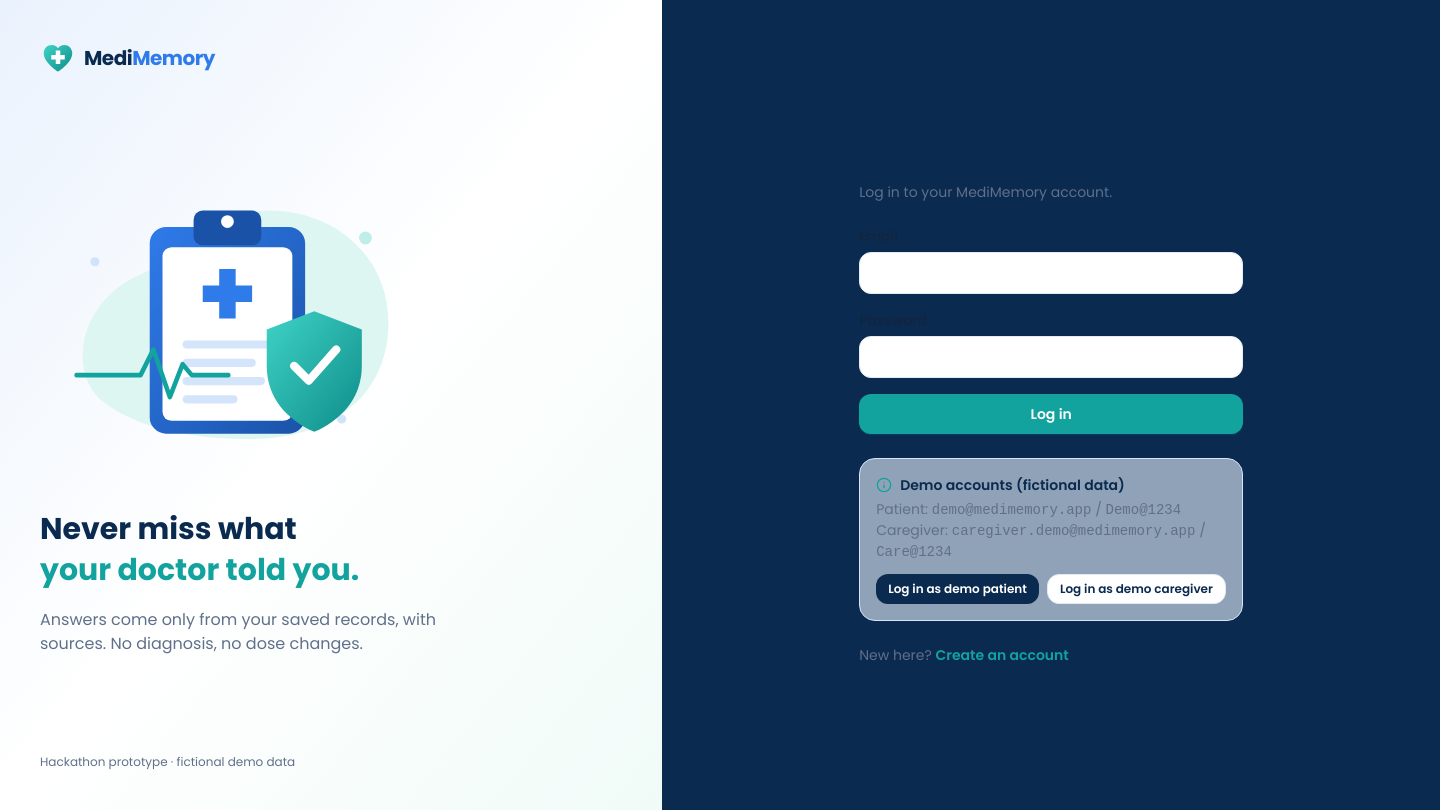
it: authentication flow › shows the server error on bad credentials
Step 1. Type "x@y.com" into the field labelled "Email" → (1051, 272), box [859,252,1243,294]
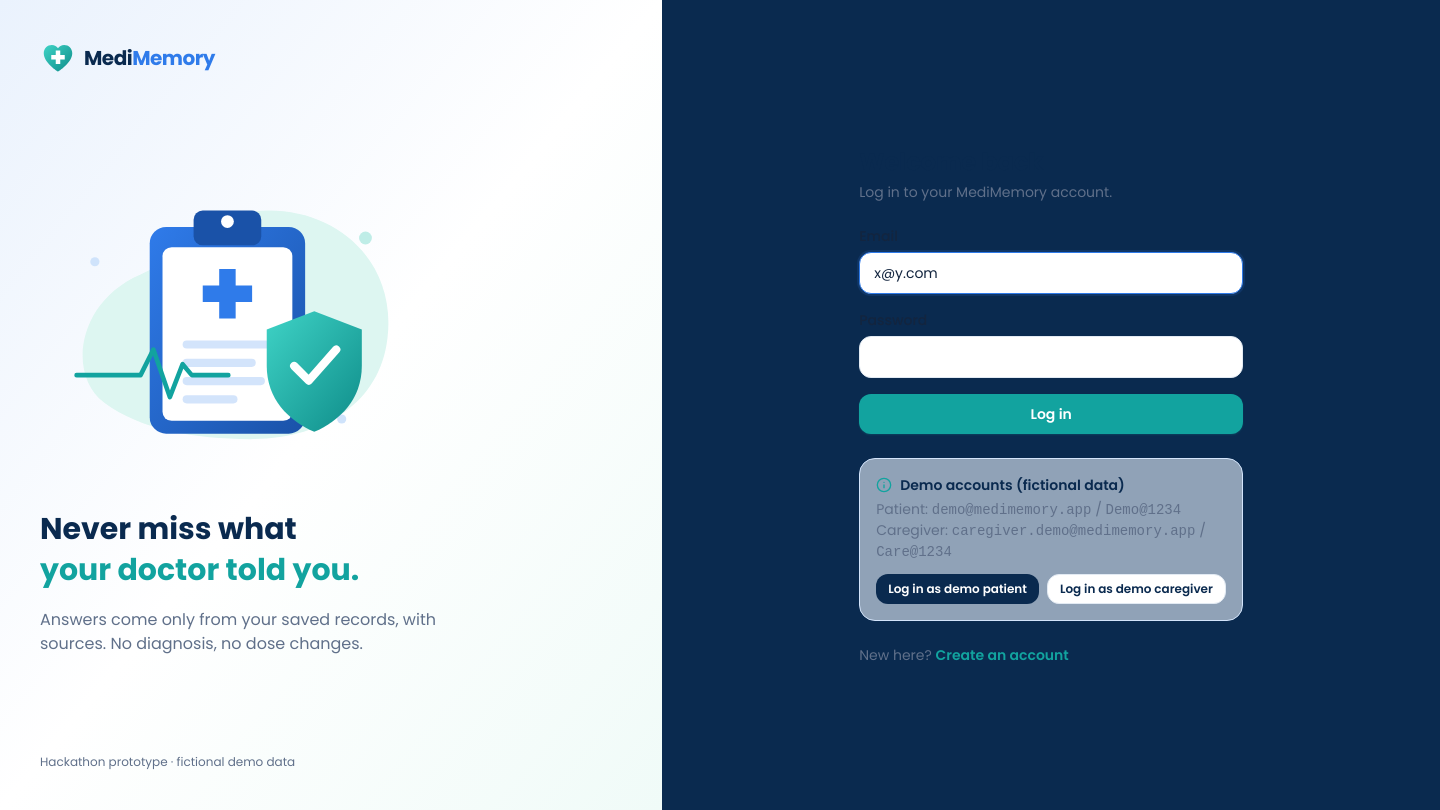
Step 2. Type "nope" into the password field labelled "Password" → (1051, 356), box [859,336,1243,378]
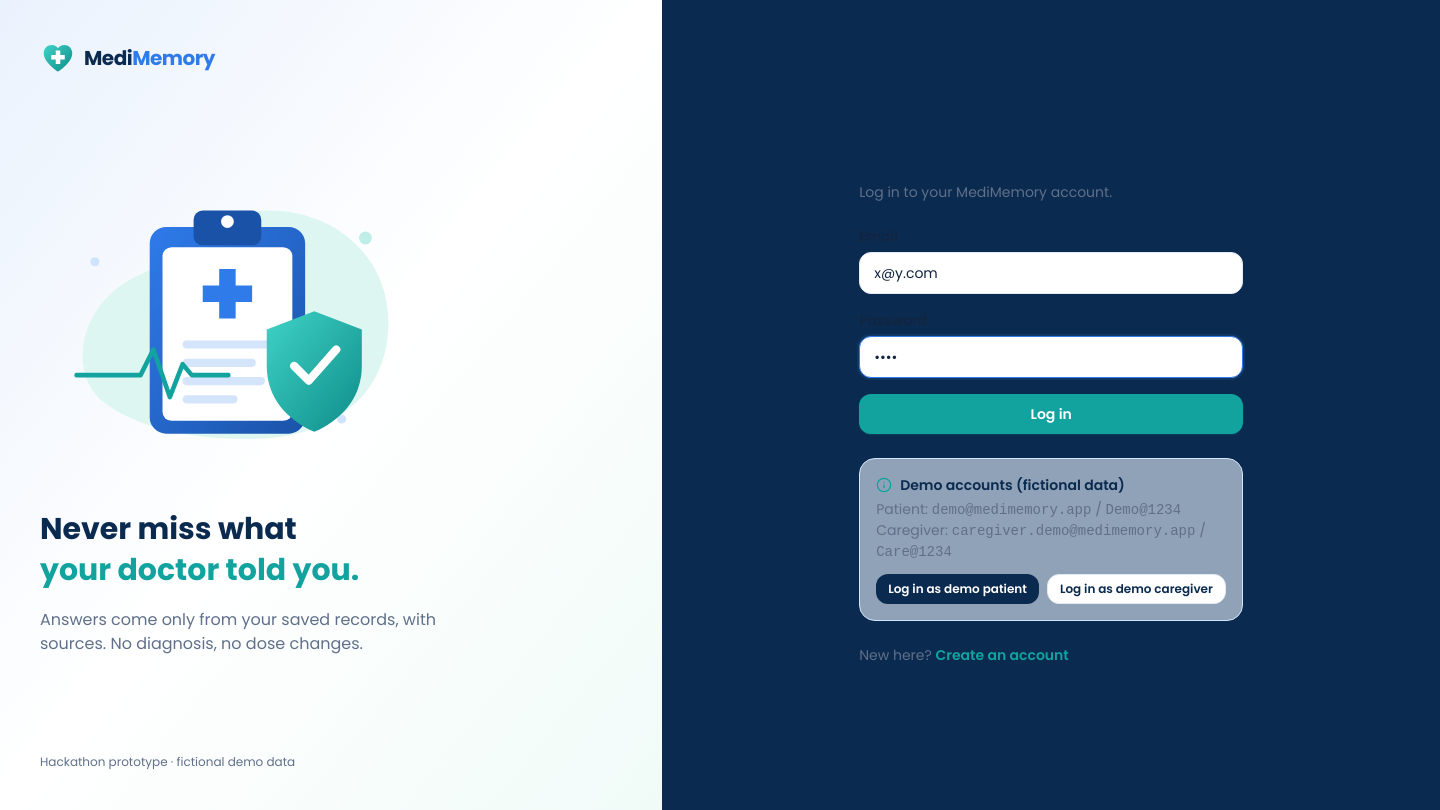
Step 3. Click the button "Log in" → (1051, 414), box [859,394,1243,434]
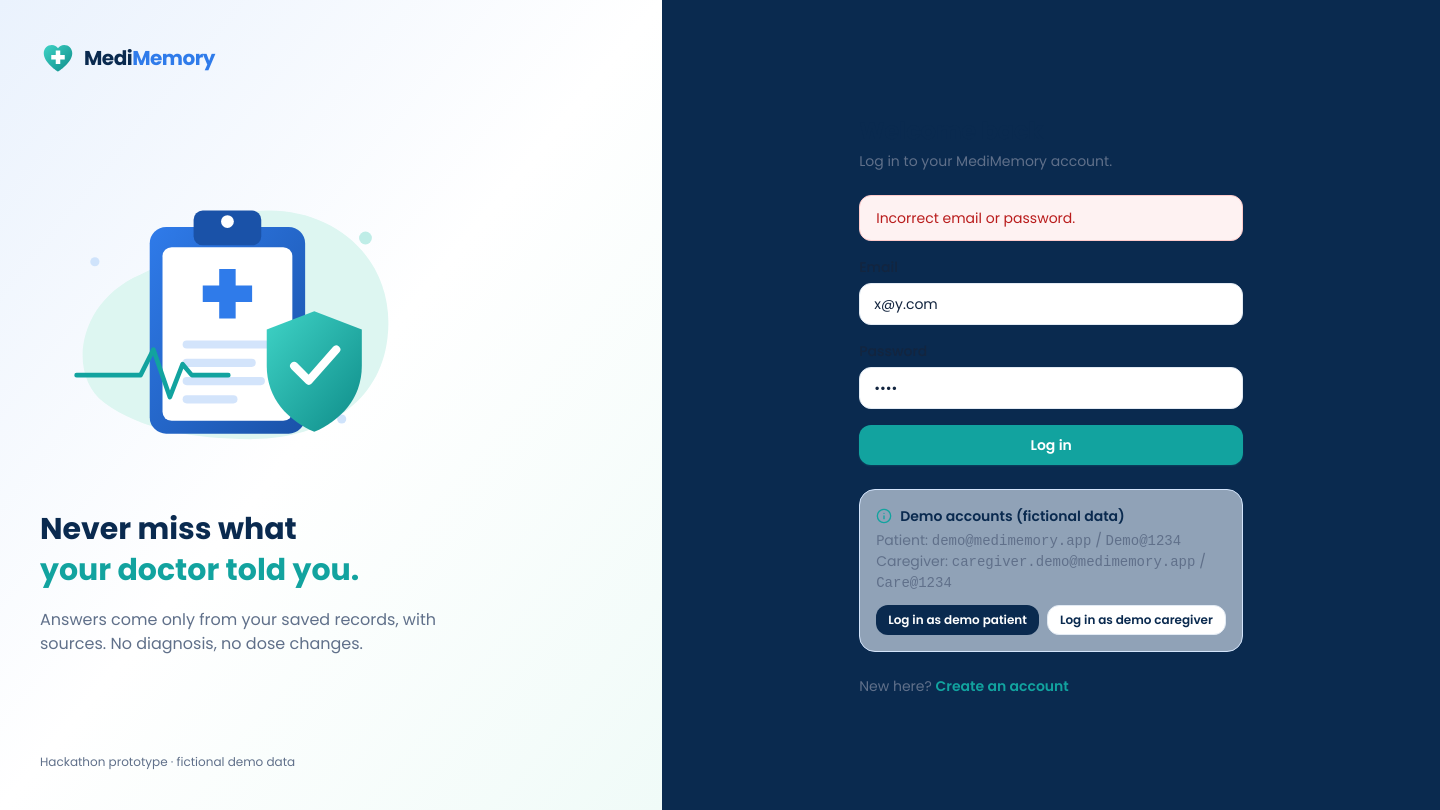
Check: the text "Incorrect email or password." is shown, box [859,194,1243,240]
